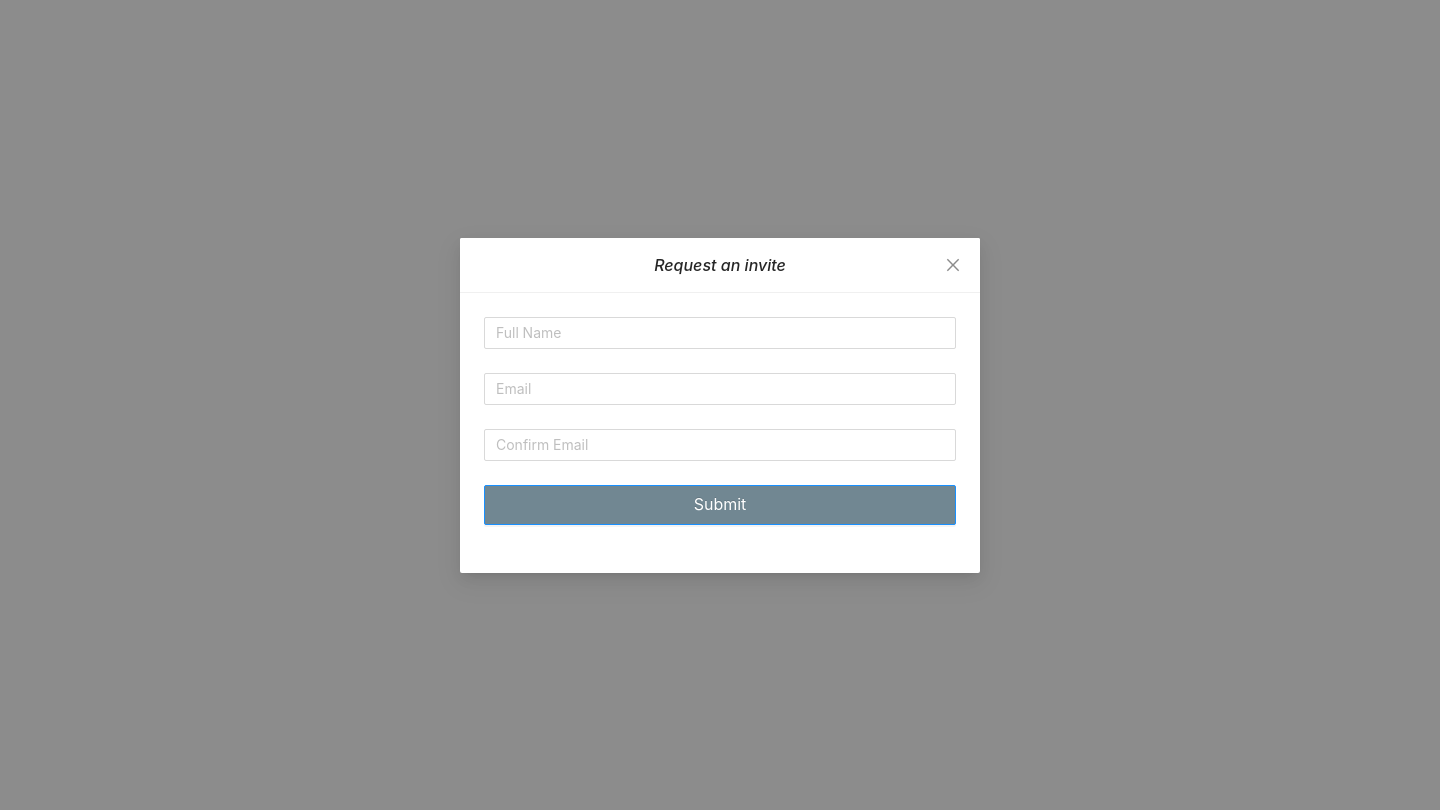
From Modal test › error message display - invalid email
Type "mockName" into the field with test id "fullname-input" at (720, 332), box [484,316,956,348]
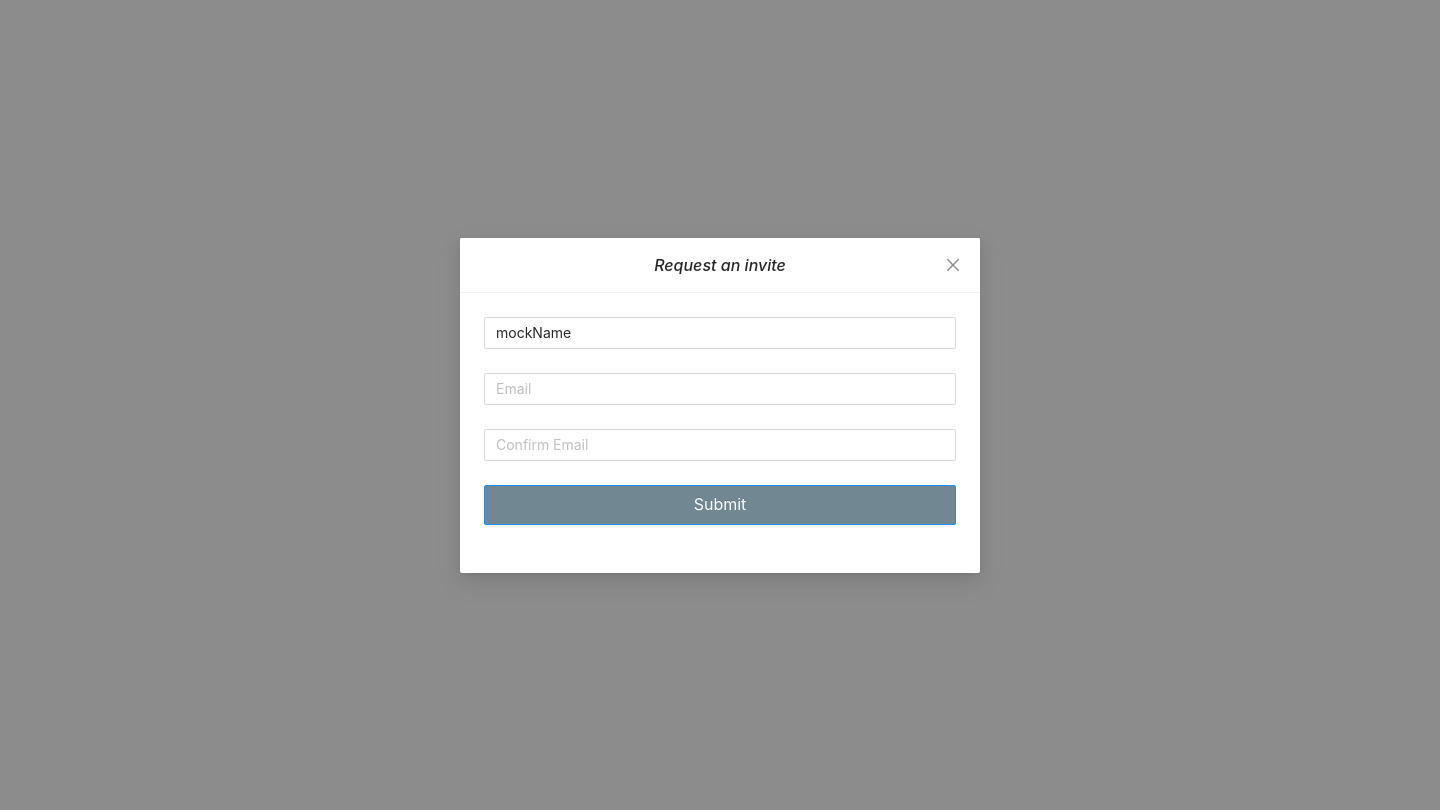
Type "a" into the field with test id "email-input" at (720, 388), box [484,372,956,404]
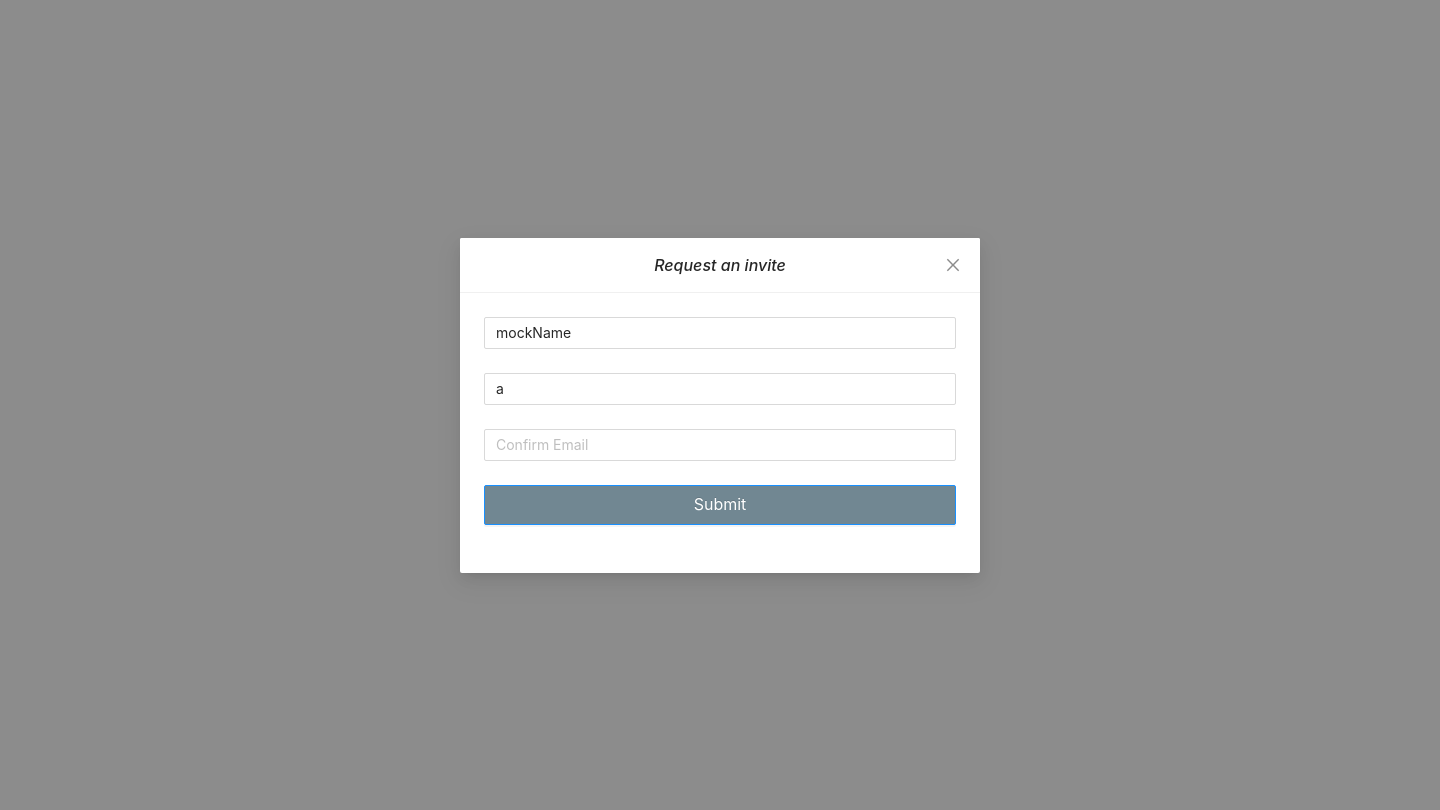
Type "i" into the field with test id "confirm-input" at (720, 444), box [484,428,956,460]
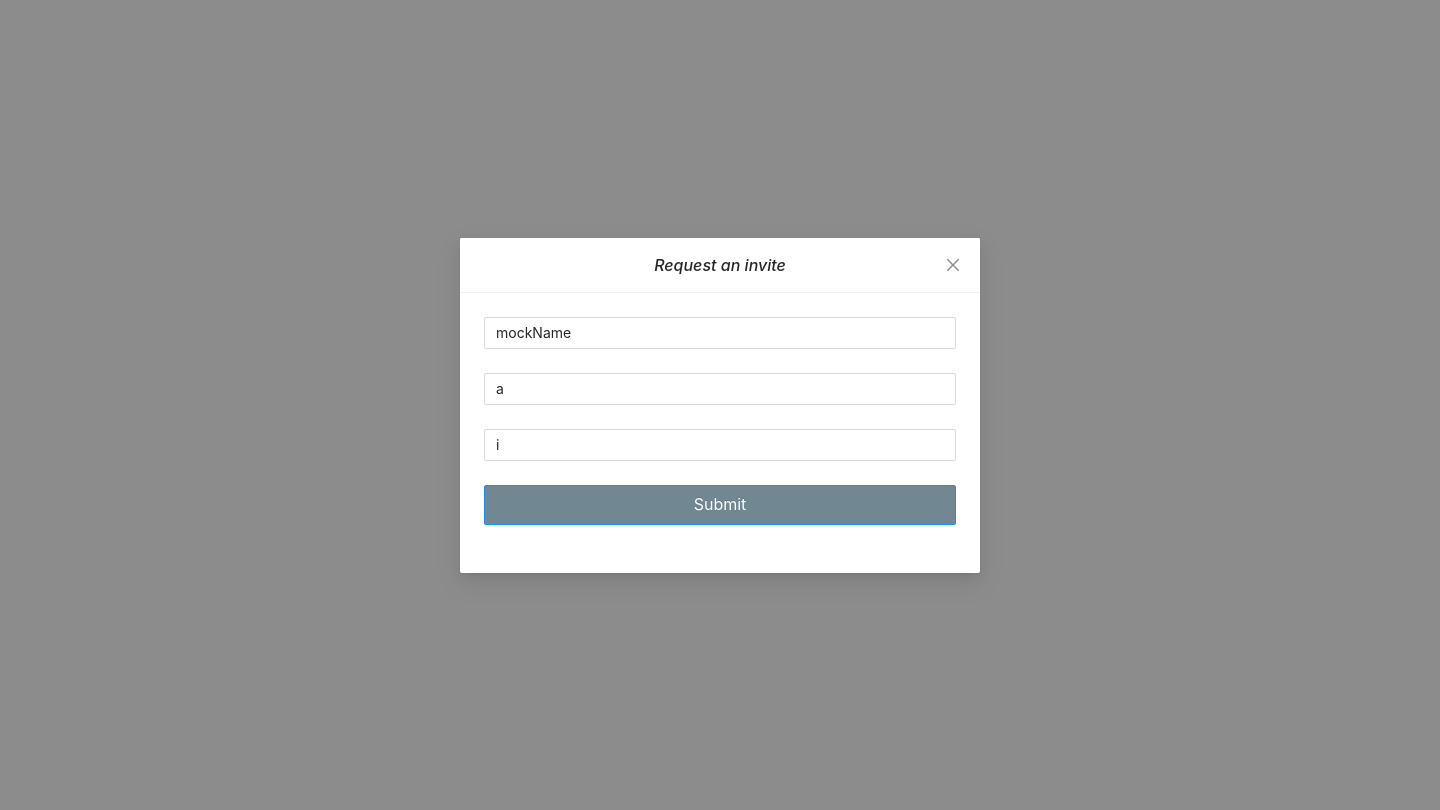
Click the button with test id "submit" at (720, 504), box [484,484,956,524]
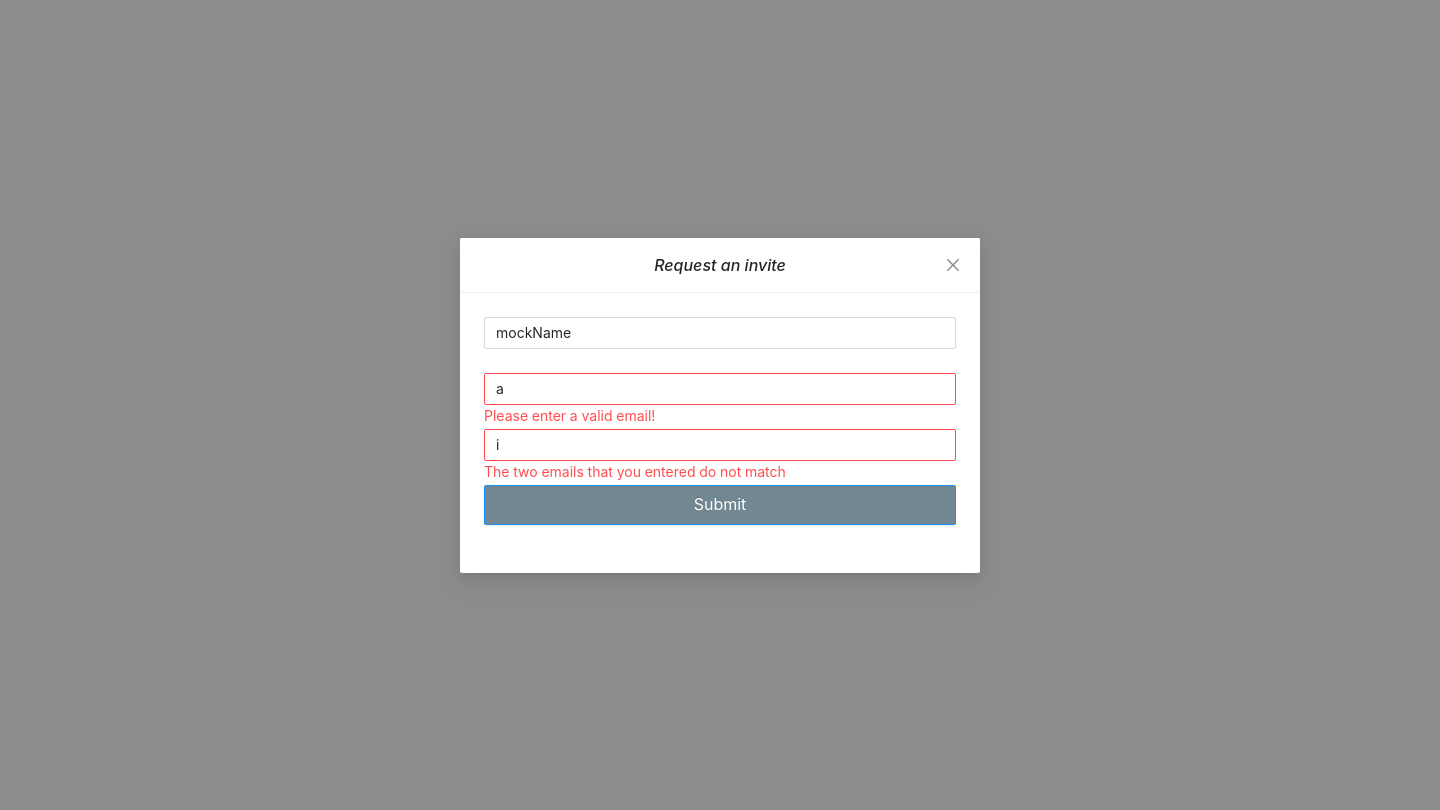
expect the text "Please enter a valid email!" is shown: met, box [484,406,655,424]
